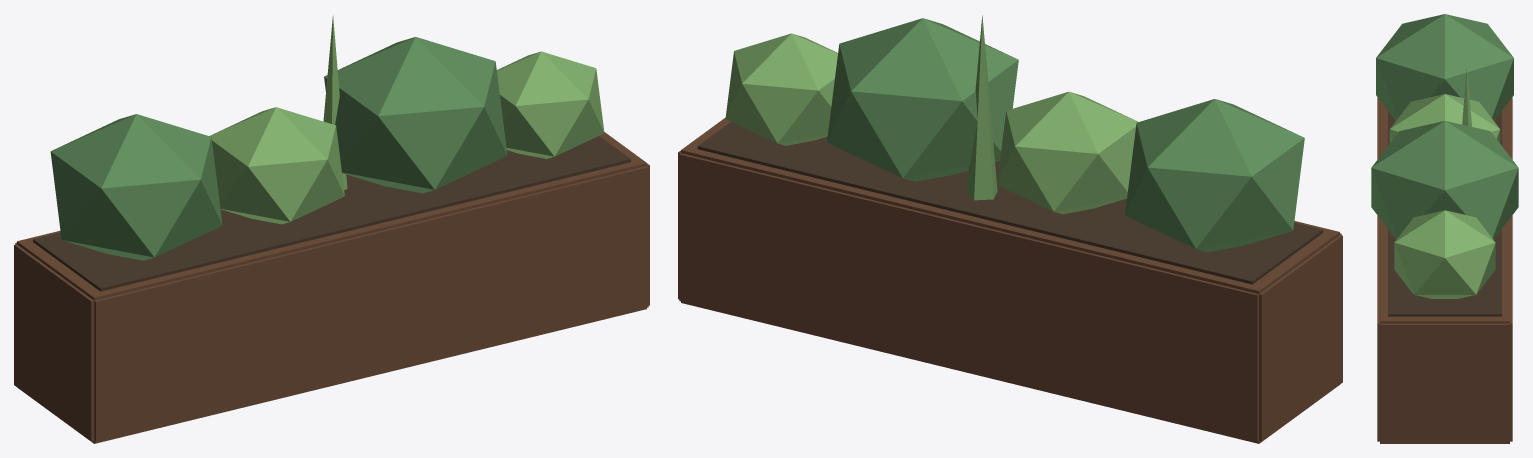
The model's file is planter.glb.
The picture shows the model from 3 angles, left to right: view 1: azimuth 30°, elevation 25°; view 2: azimuth 150°, elevation 25°; view 3: azimuth 270°, elevation 25°; orthographic projection. The views are drawn at different scales.
Visible parts, largest first — view 1: Box, Bush2, Bush0, Soil, Bush1, Bush3, Grass; view 2: Box, Bush2, Bush0, Soil, Bush1, Bush3, Grass; view 3: Box, Bush2, Bush0, Bush3, Soil, Bush1, Grass.
Part boxes in pixels (left/top/right/bottom): Box: left=14, top=132, right=649, bottom=443; Bush2: left=324, top=37, right=507, bottom=193; Bush0: left=50, top=114, right=222, bottom=260; Soil: left=33, top=136, right=630, bottom=291; Bush1: left=209, top=107, right=344, bottom=224; Bush3: left=496, top=51, right=604, bottom=158; Grass: left=323, top=15, right=347, bottom=189; Box: left=678, top=117, right=1342, bottom=443; Bush2: left=827, top=18, right=1018, bottom=181; Bush0: left=1125, top=99, right=1304, bottom=252; Soil: left=697, top=122, right=1323, bottom=284; Bush1: left=997, top=91, right=1138, bottom=214; Bush3: left=725, top=33, right=837, bottom=145; Grass: left=966, top=15, right=997, bottom=200; Box: left=1377, top=97, right=1512, bottom=443; Bush2: left=1371, top=121, right=1518, bottom=239; Bush0: left=1376, top=14, right=1513, bottom=120; Bush3: left=1394, top=210, right=1495, bottom=298; Soil: left=1388, top=111, right=1501, bottom=316; Bush1: left=1389, top=94, right=1500, bottom=143; Grass: left=1462, top=68, right=1471, bottom=126.
Bounding box in the file's own units: 2 × 1.1 × 0.5444.
